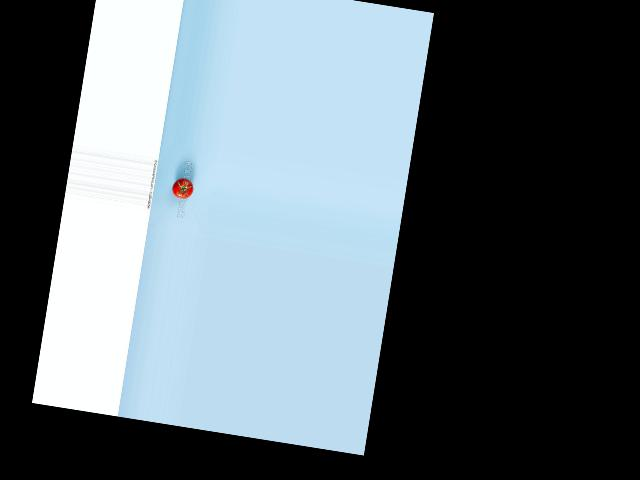tomato: (170, 177, 194, 200)
